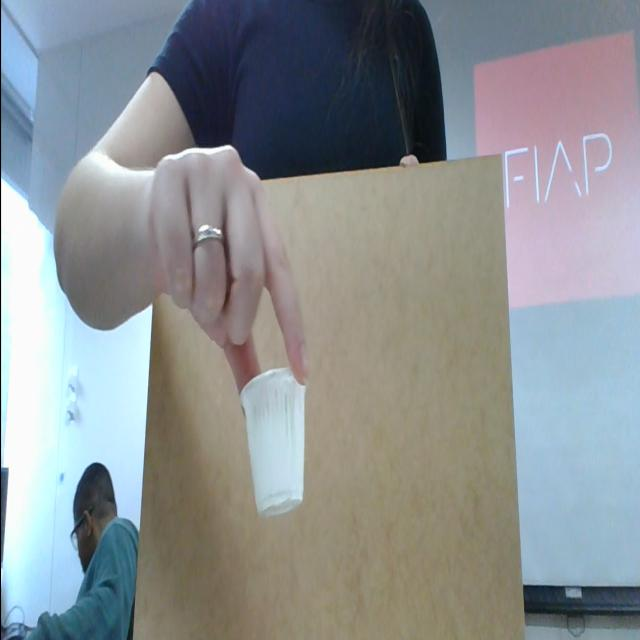planta: (240, 369, 307, 519)
